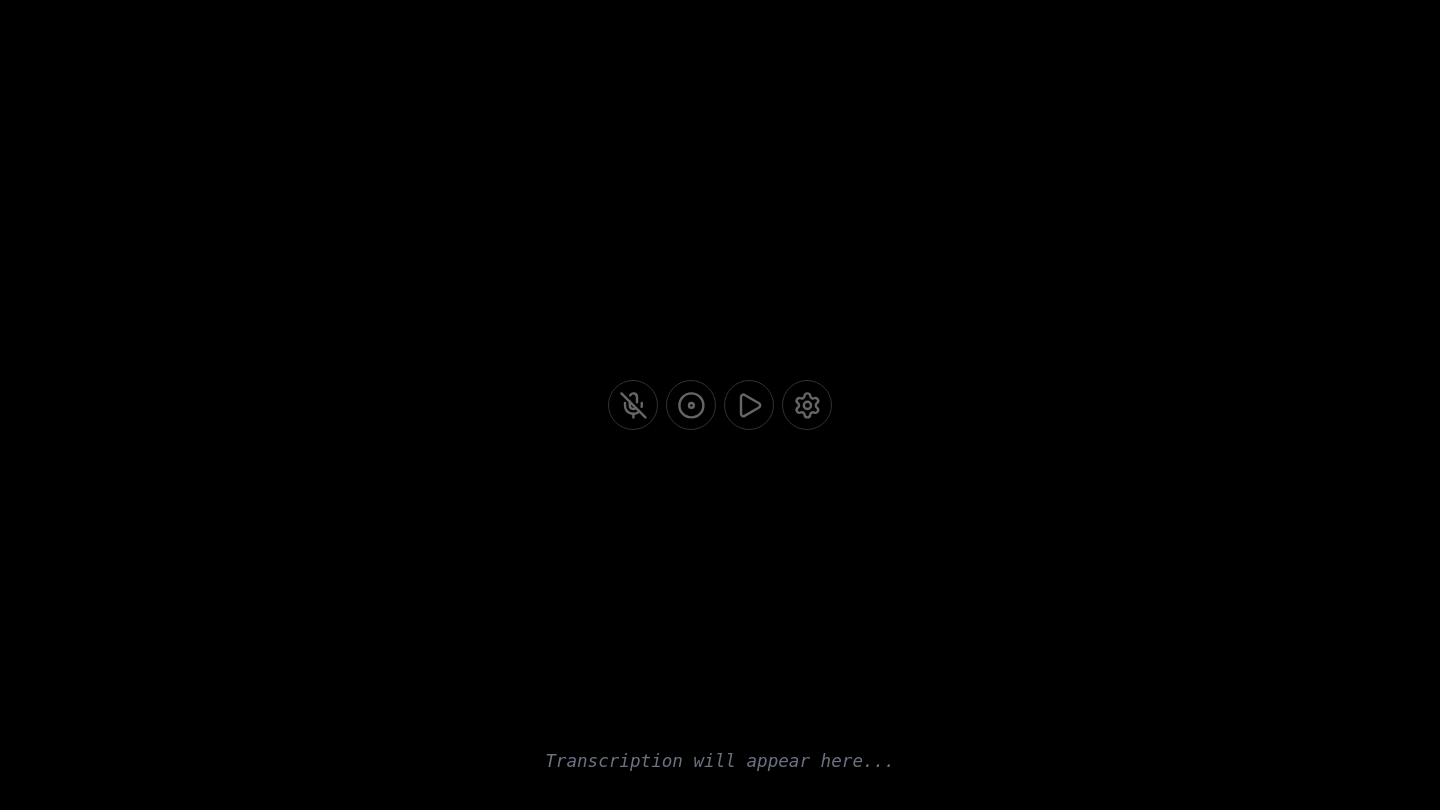
Test: Settings Integration Tests › hides transcription mode when transcription is disabled
This screenshot has width=1440, height=810.
Note: Open settings
Click the button titled "Settings" at (807, 405), box x1=782 y1=380 x2=832 y2=430
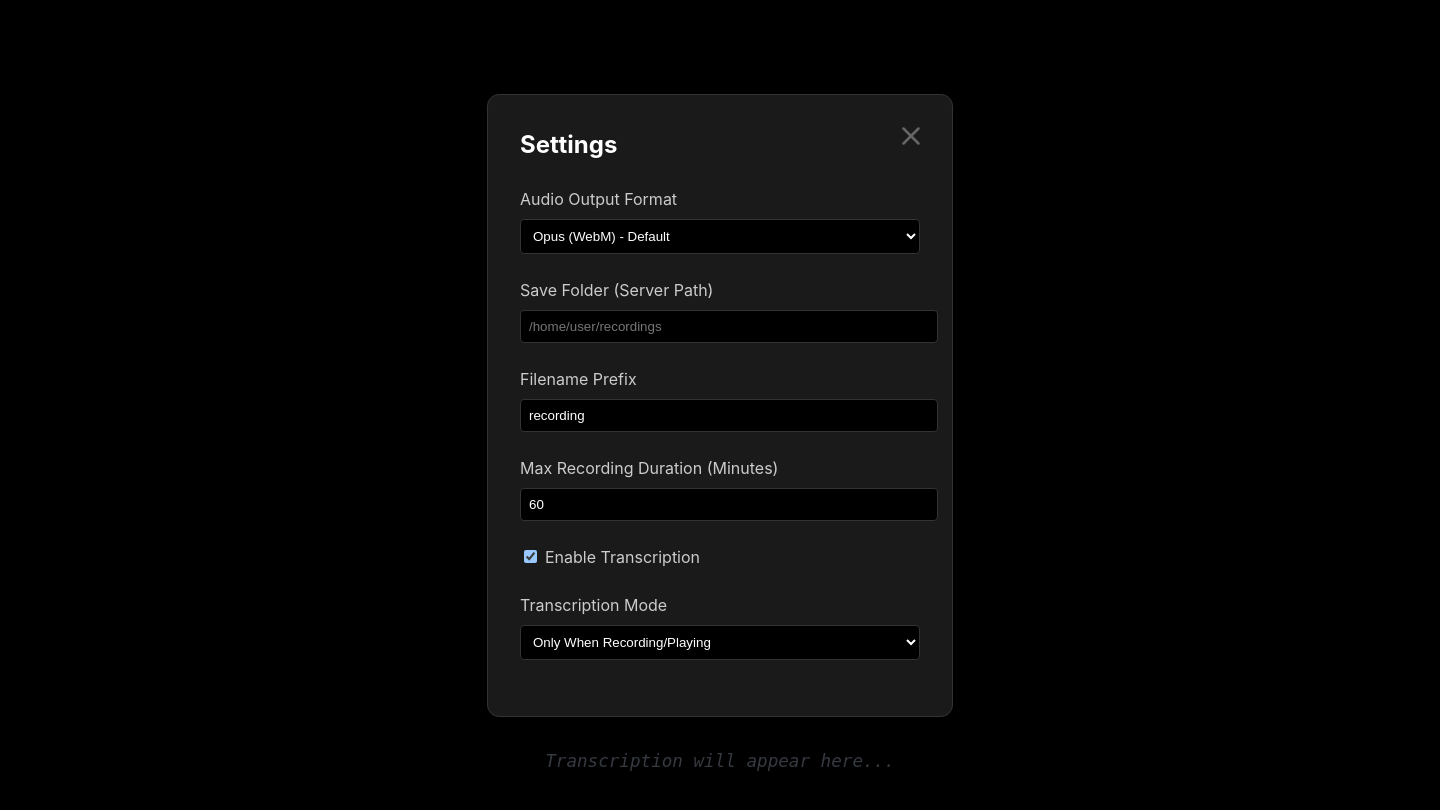
Click the checkbox labelled "Enable Transcription" at (530, 556), box x1=524 y1=550 x2=537 y2=563
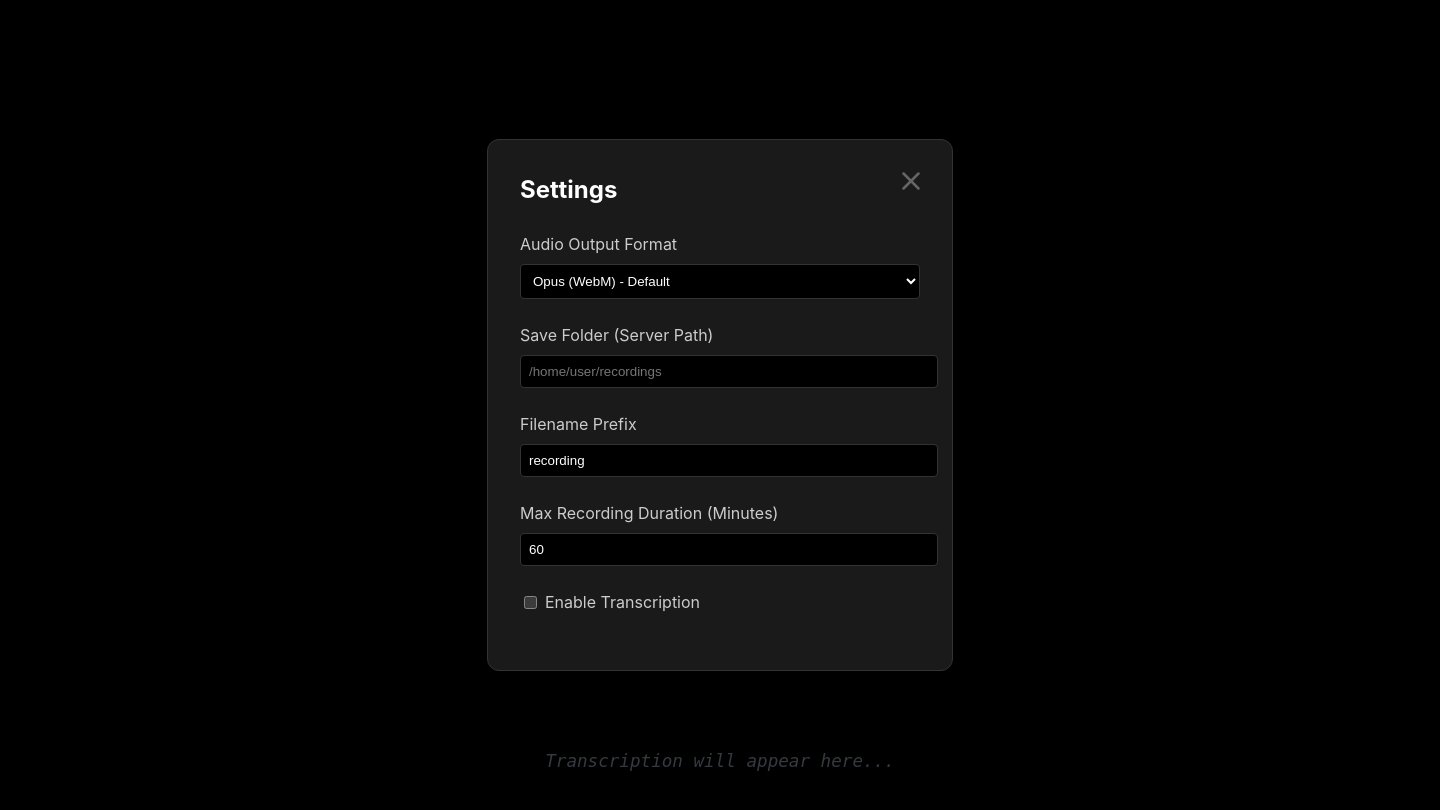
Expected: the label labelled "Transcription Mode" is gone
